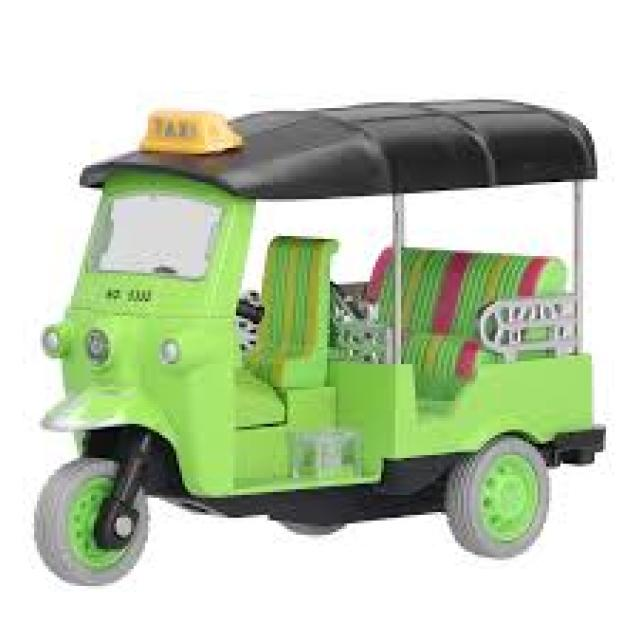tuktuk: (13, 45, 624, 609)
